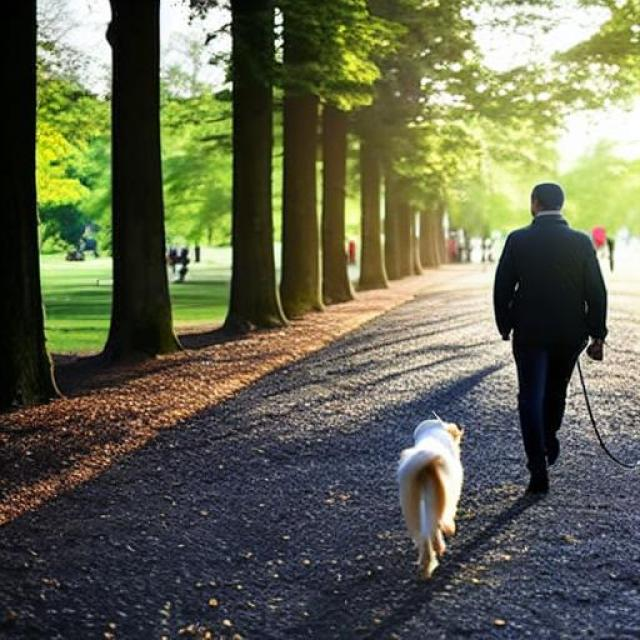Unleashed_Dog: (398, 329, 584, 580)
